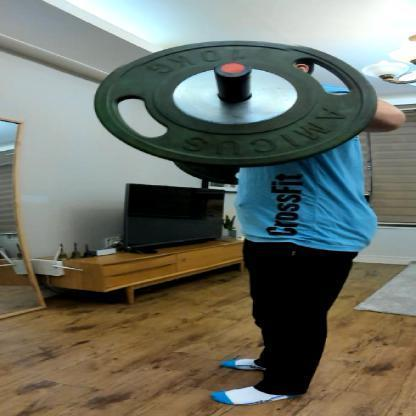barbell: (95, 40, 377, 166)
